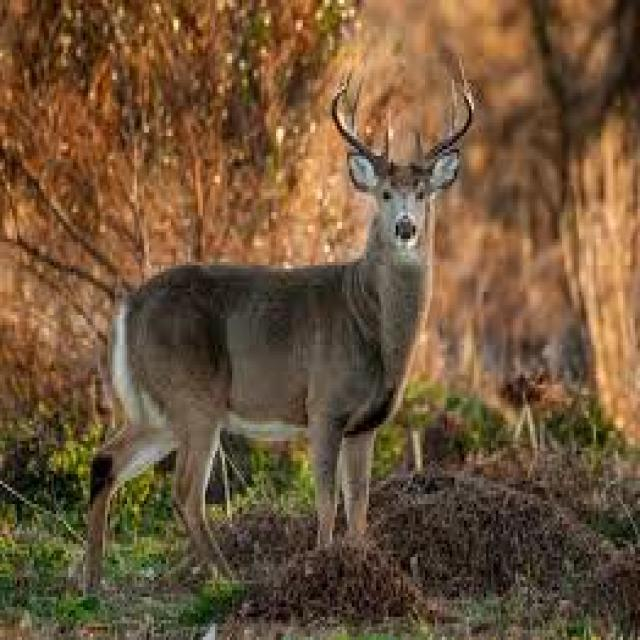deer: (90, 86, 474, 564)
